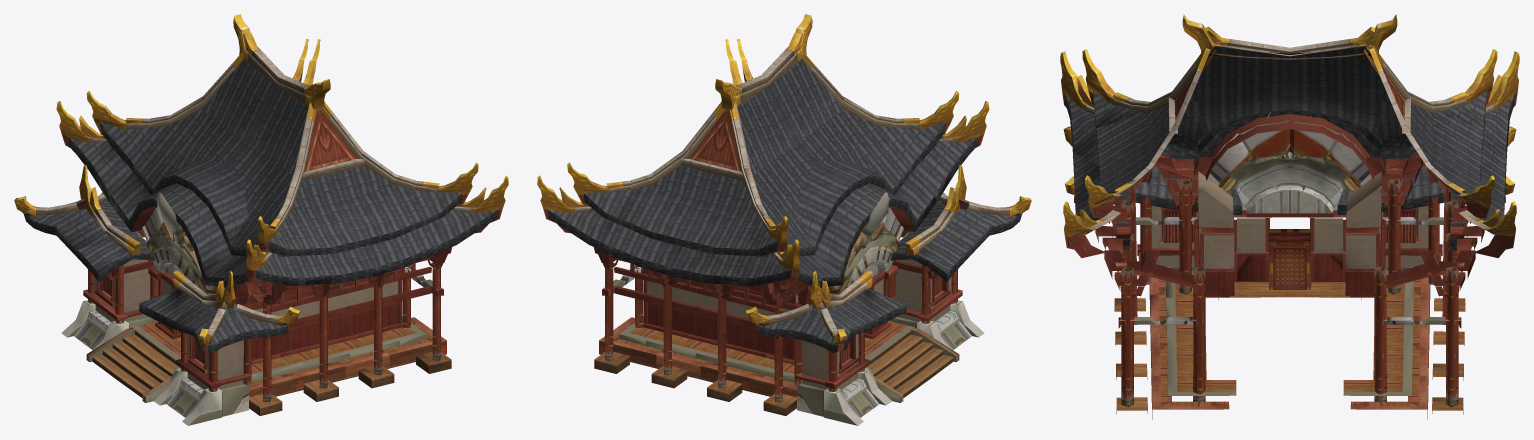
The model's file is City_bujian_01_1.fbx.
3 renders of one model, left to right at view 1: azimuth 30°, elevation 25°; view 2: azimuth 150°, elevation 25°; view 3: azimuth 270°, elevation 25°, orthographic. The views are drawn at different scales.
Visible parts, largest first — view 1: City; view 2: City; view 3: City.
Boxes of the visible parts, box(x1,y1,x2,y2) form: City: box(14, 14, 508, 425); City: box(537, 14, 1031, 425); City: box(1060, 14, 1519, 419).
Size of the model in its own units: 15.26 by 13.91 by 16.5.
